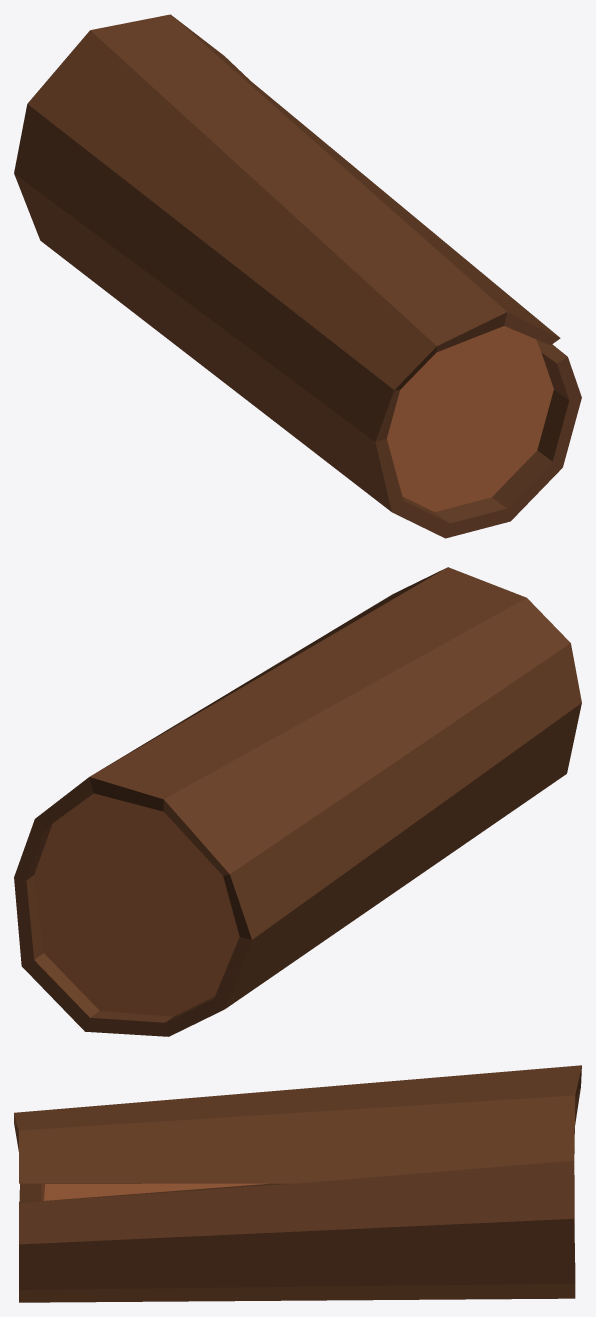
Rendered from woodlog01.obj.
3 renders of one model, top to bottom at view 1: azimuth 30°, elevation 25°; view 2: azimuth 150°, elevation 25°; view 3: azimuth 270°, elevation 25°, orthographic. The views are drawn at different scales.
Visible parts, largest first — view 1: Cylinder; view 2: Cylinder; view 3: Cylinder.
Part boxes in pixels (x1,y1,x2,y2): Cylinder: (14,14,581,538); Cylinder: (14,567,581,1036); Cylinder: (14,1065,581,1302).
Bounding box in the file's own units: 0.2978 × 0.3171 × 0.7807.
